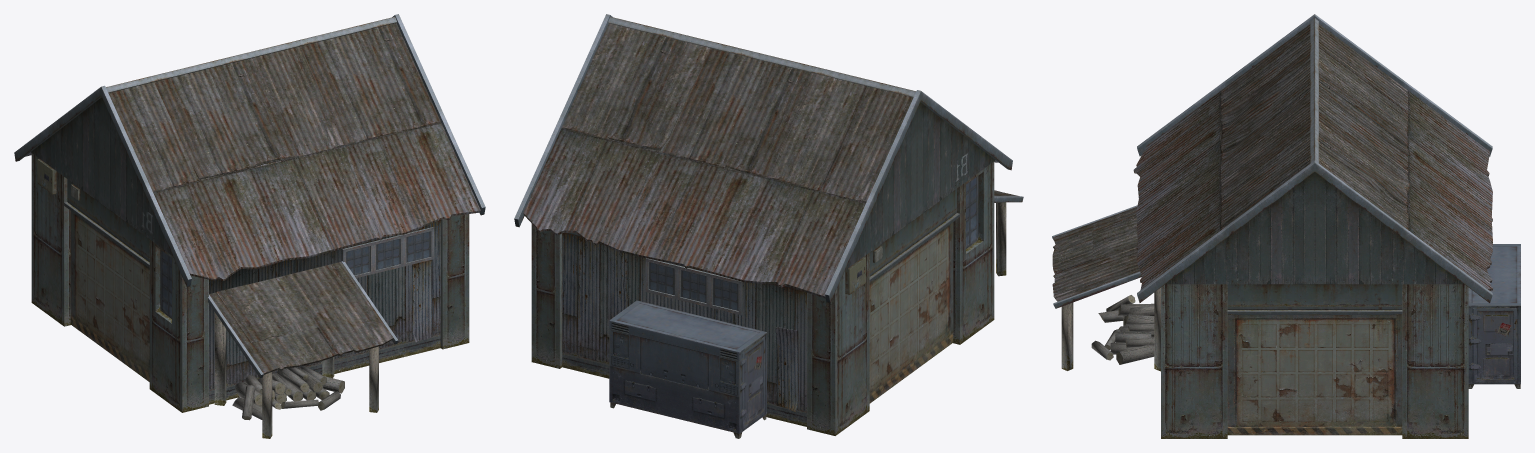
The model's file is Building_Pve01XhtBuilding01.glb.
The picture shows the model from 3 angles, left to right: view 1: azimuth 30°, elevation 25°; view 2: azimuth 150°, elevation 25°; view 3: azimuth 270°, elevation 25°; orthographic projection. The views are drawn at different scales.
Parts seen in each view (by area): view 1: pve01_xht_building01_0; view 2: pve01_xht_building01_0; view 3: pve01_xht_building01_0.
Part boxes in pixels (<box>): pve01_xht_building01_0: <box>14,14,485,438</box>; pve01_xht_building01_0: <box>514,14,1023,438</box>; pve01_xht_building01_0: <box>1052,14,1520,438</box>.
Bounding box in the file's own units: 10.64 × 9.34 × 14.2.
2 materials, 2 textured.
